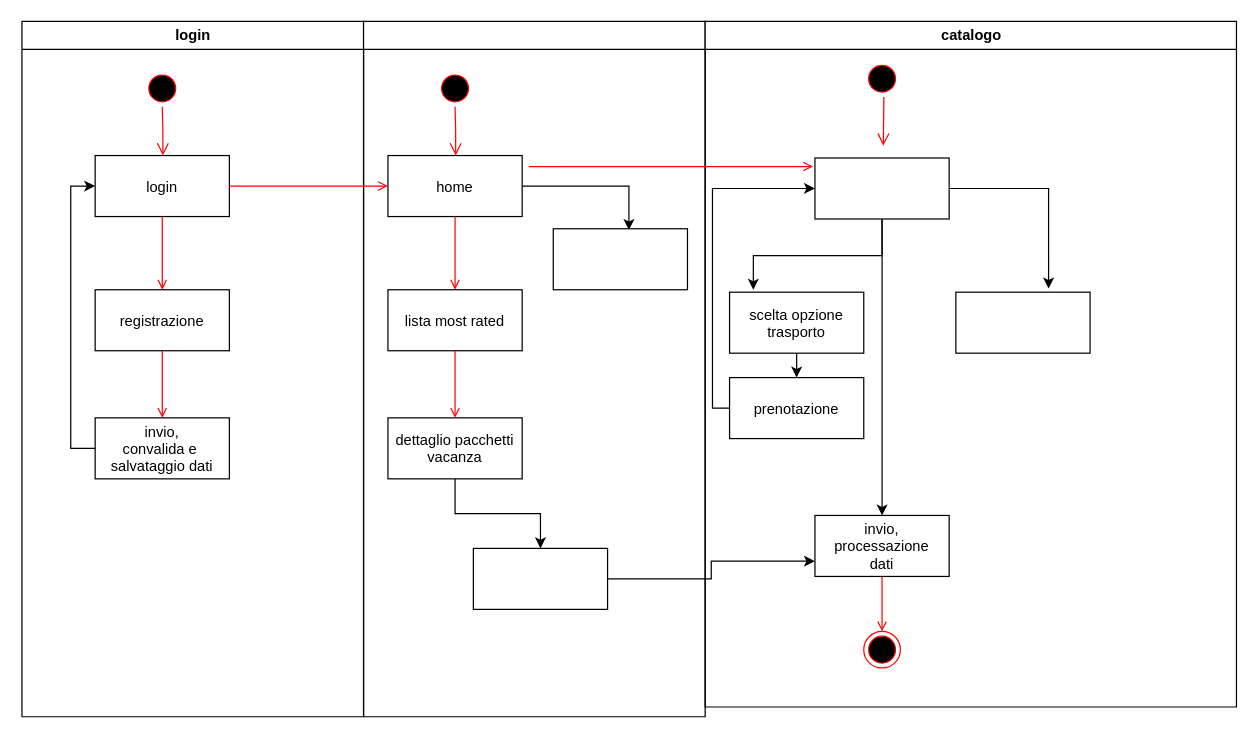
The diagram is 1258 pixels wide and 738 high, and some of its shapes have lost their labels. The box of each missing label's shape, as (x1, y1, x2, y2) in pixels:
acquisto pacchetto: (472, 547, 608, 609)
catalogo mete turistiche: (814, 157, 949, 219)
main: (362, 20, 705, 717)
prenotazione camere hotel nelle vicinanze: (955, 291, 1090, 353)
saldo prenotazioni: (552, 228, 687, 290)
